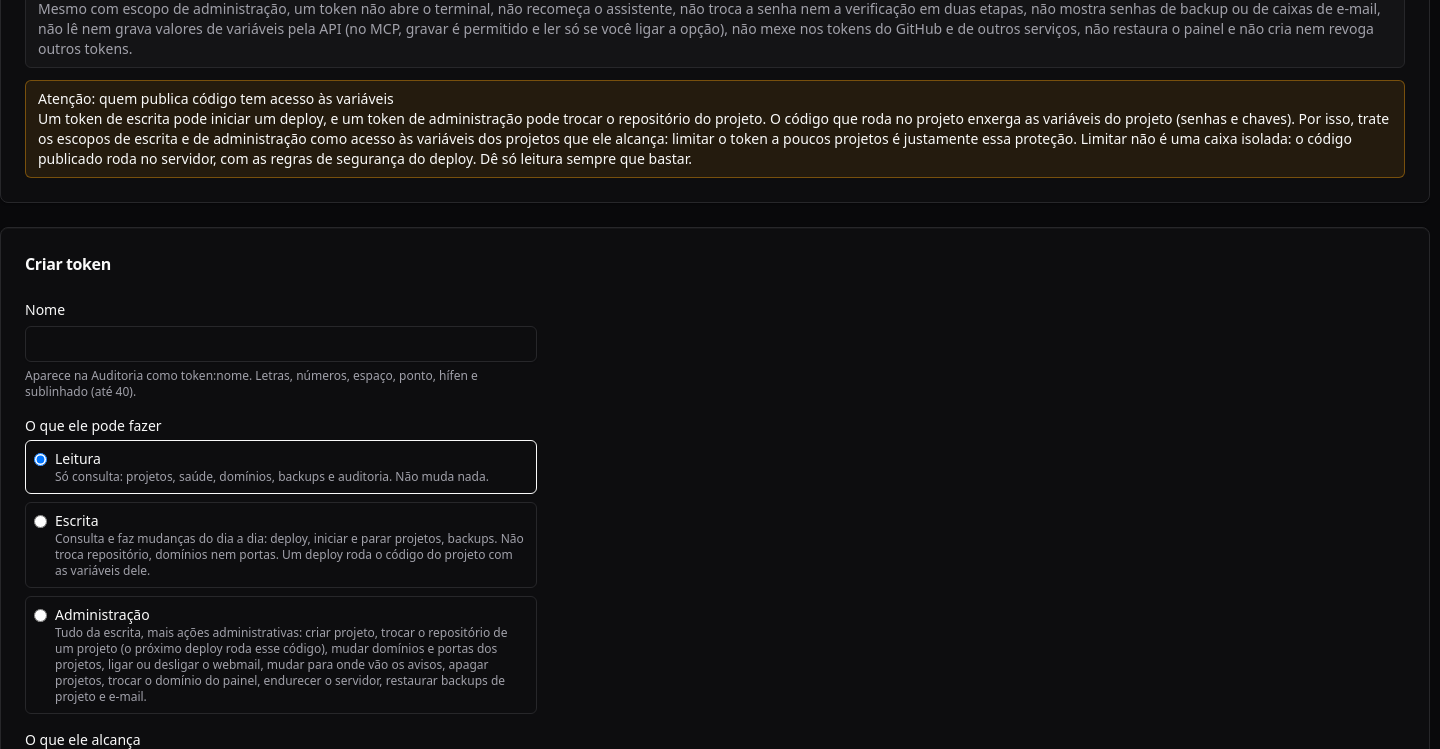
Scenario: tokens: validade ilimitada e opções do MCP › ilimitado mostra o aviso e só libera o botão com a confirmação
(page scrolled)
Type "ia" into the field labelled "Nome".
click(281, 344); type("ia")  # box 25,326 -> 537,362
(page scrolled)
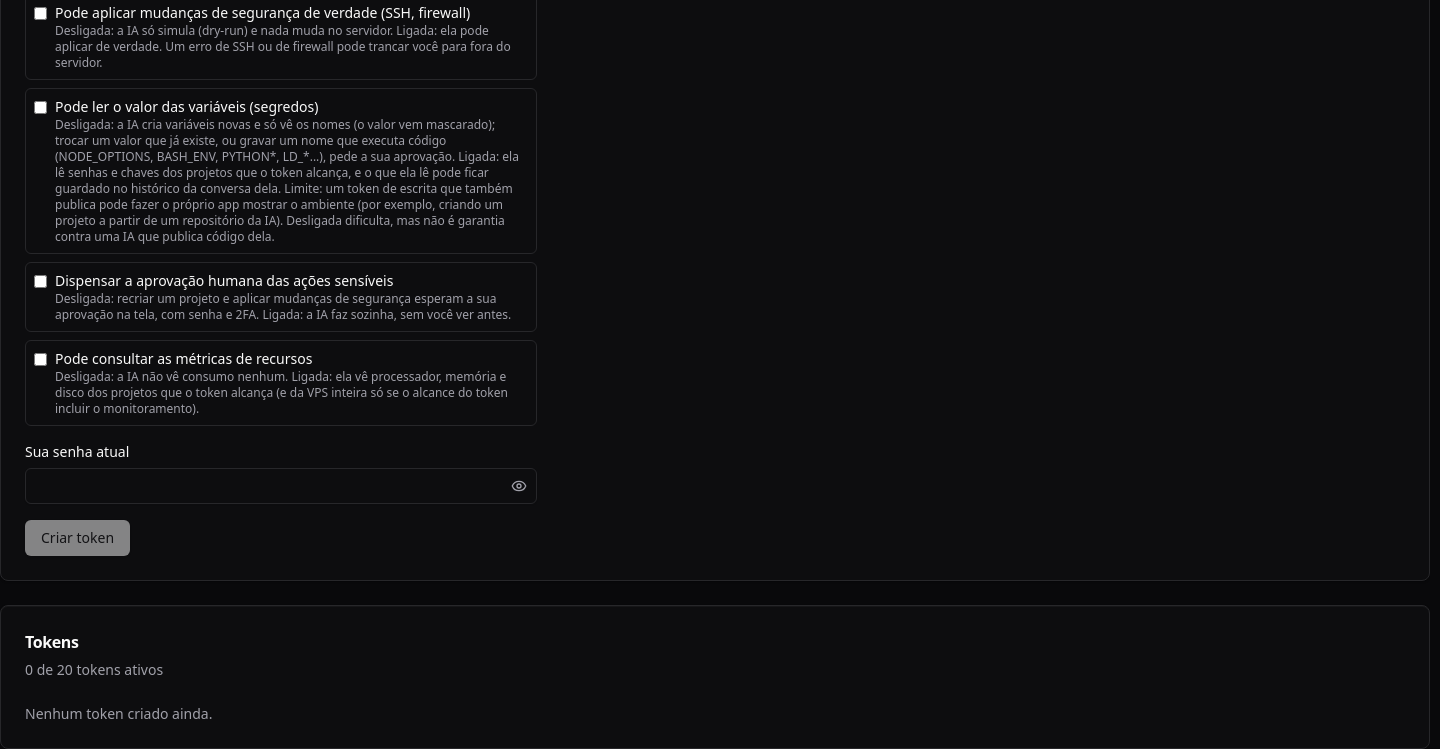
Type "MinhaSenha123" into the password field labelled "Sua senha atual".
click(281, 486); type("MinhaSenha123")  # box 25,468 -> 537,504
(page scrolled)
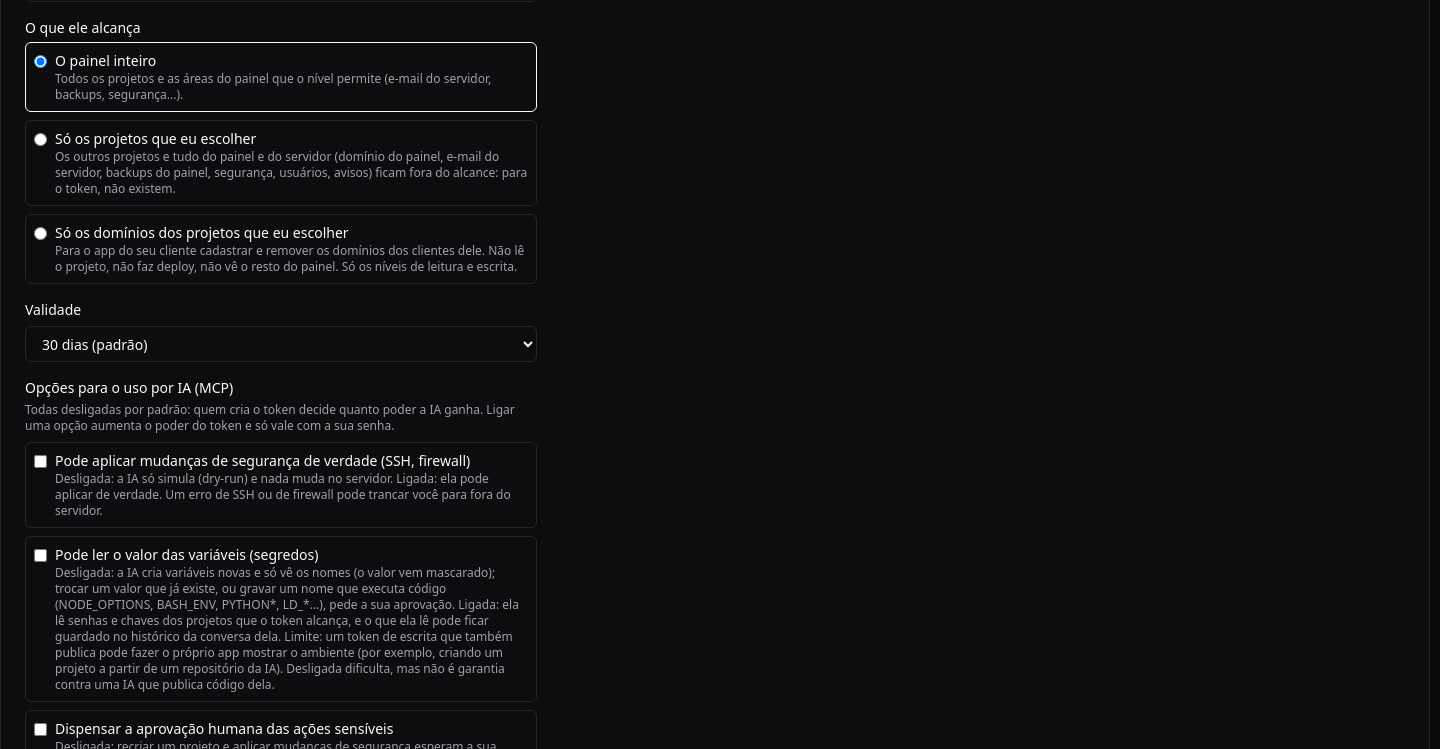
Select "Sem vencimento (ilimitado)" in the dropdown labelled "Validade" at (281,344), box 25,326 -> 537,362
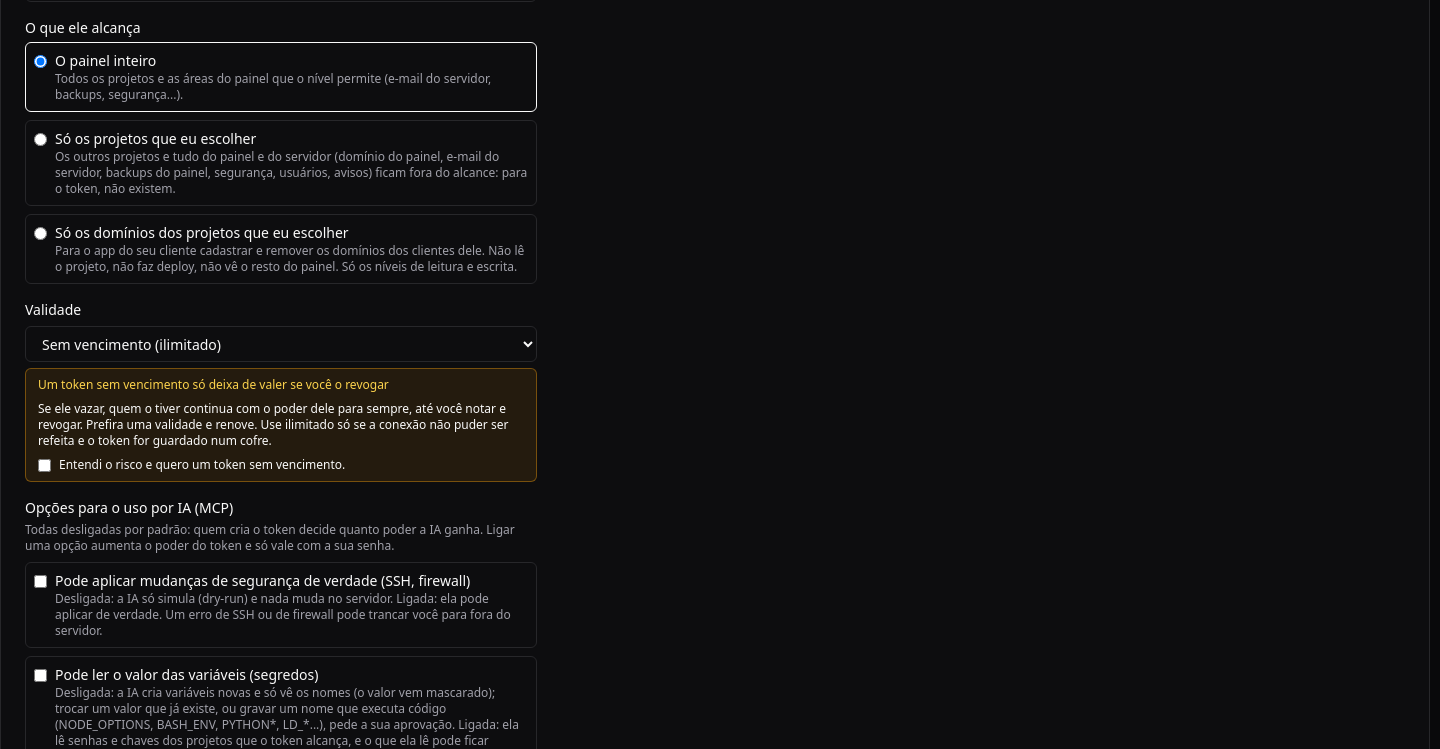
Result: the message with test id "api-token-never-warning" is shown at 25,368 -> 537,482
Click the checkbox with test id "api-token-never-ack".
click(44, 466)  # box 38,459 -> 51,472
(page scrolled)
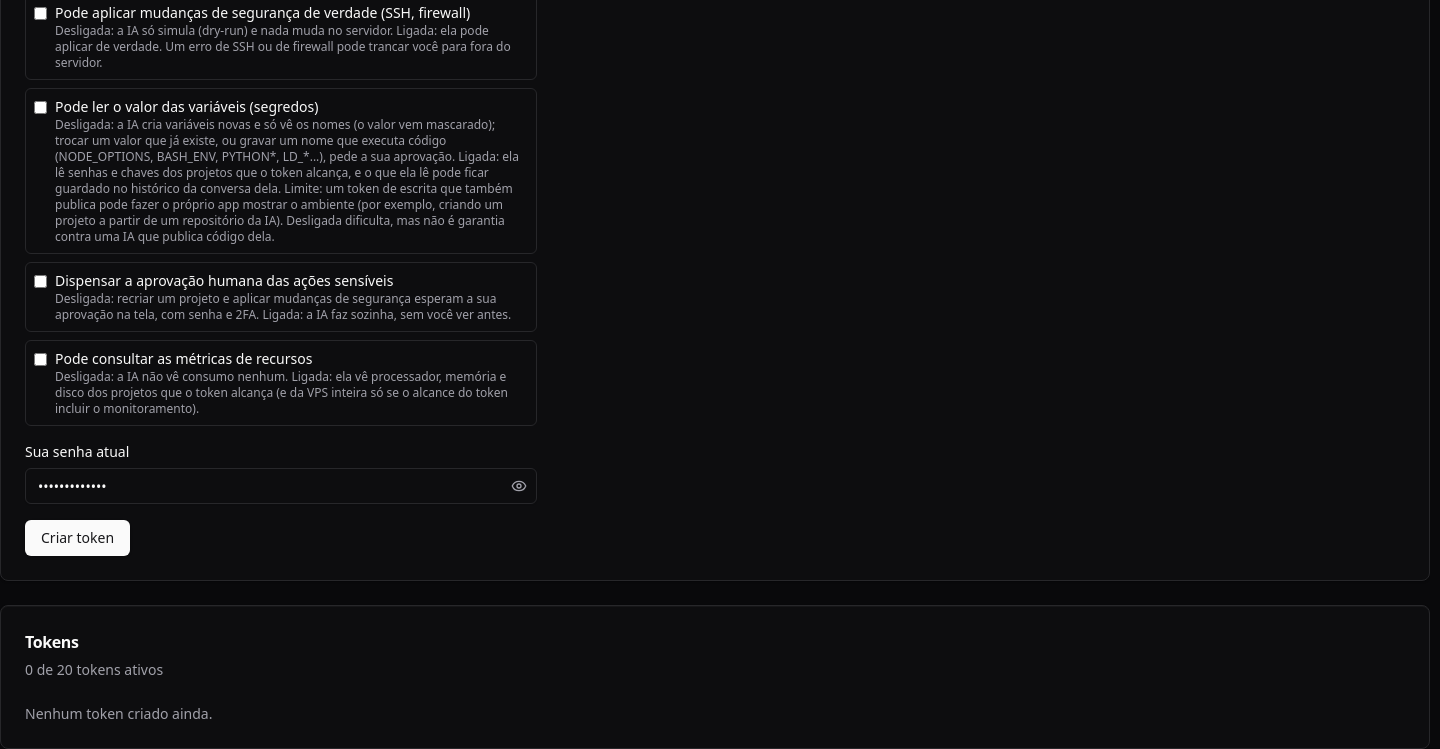
Result: the button "Criar token" is enabled
Click the button "Criar token".
click(78, 538)  # box 25,520 -> 130,556
(page scrolled)
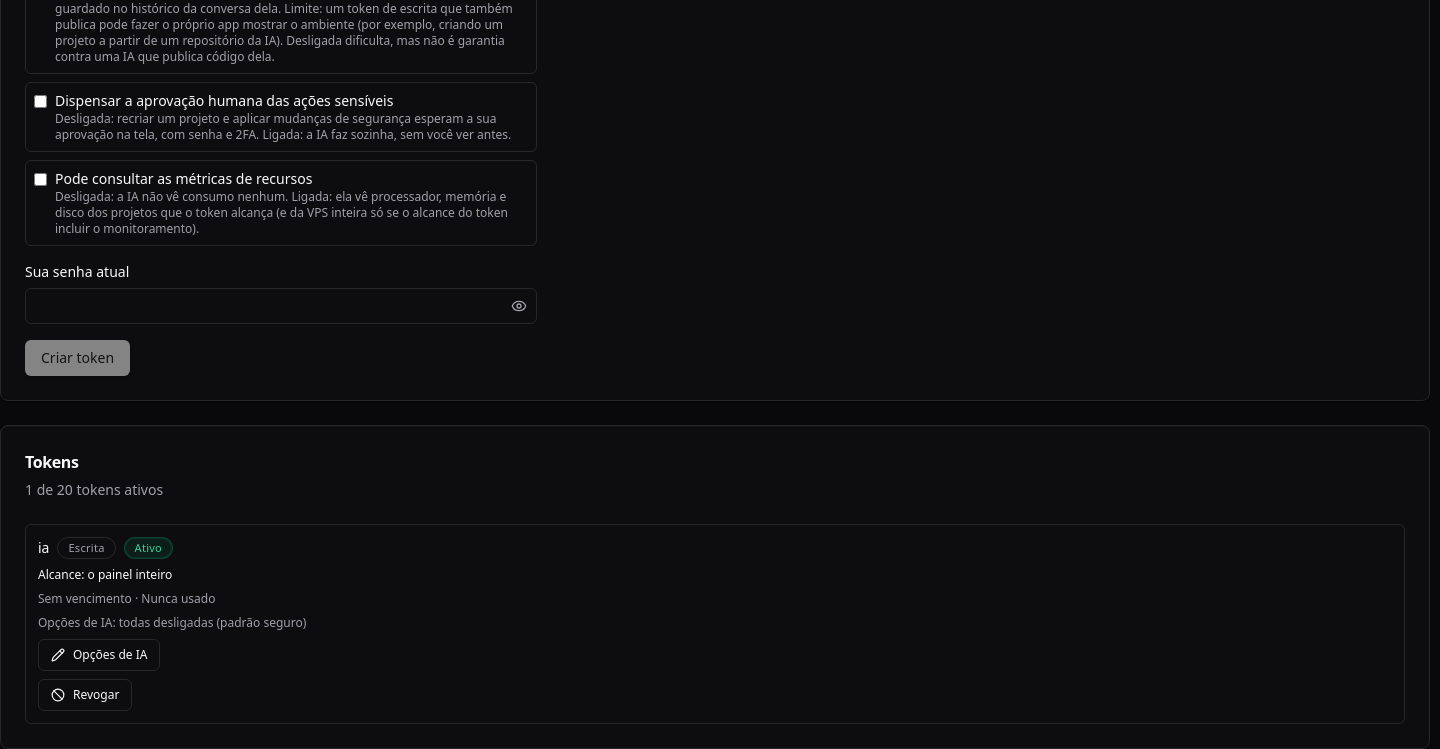
Result: the text "Sem vencimento · Nunca usado" is shown at 38,590 -> 215,607
